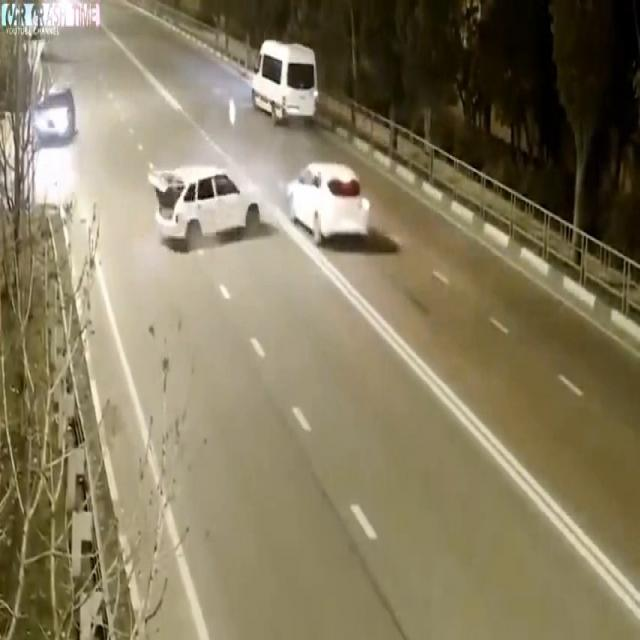Accident: (143, 115, 264, 261)
